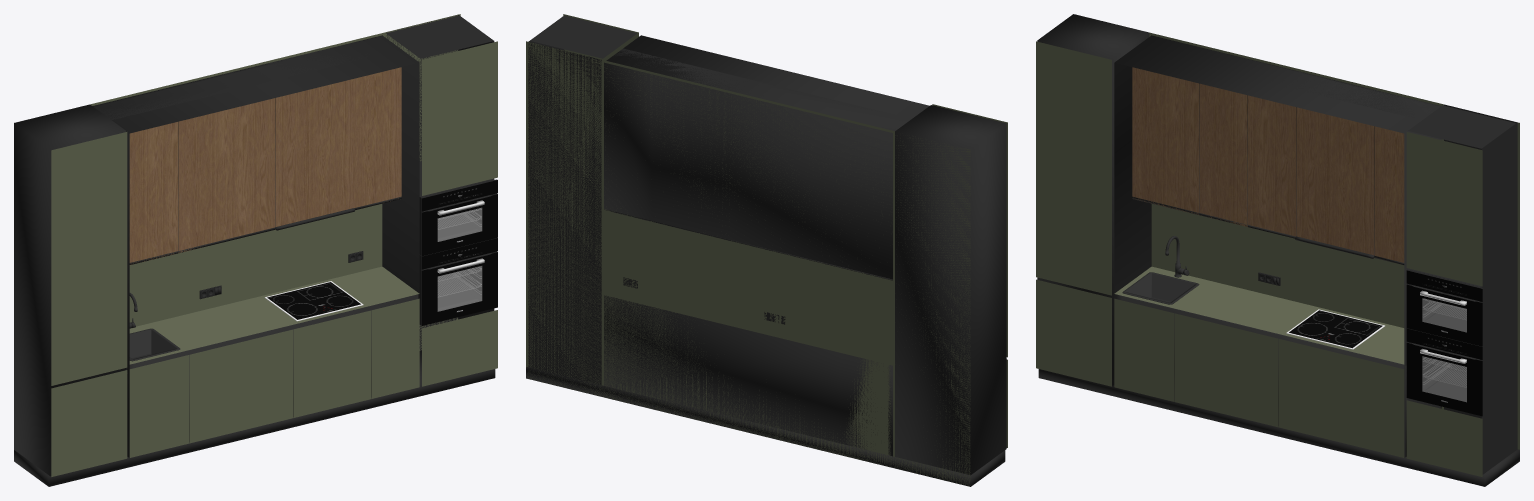
File: Kitchen.glb
3 renders of one model, left to right at view 1: azimuth 30°, elevation 25°; view 2: azimuth 150°, elevation 25°; view 3: azimuth 330°, elevation 25°, orthographic.
Visible parts, largest first — view 1: Plane.003, Plane.005, Plane.001, Plane.002, Plane.009, Plane.006, Plane.038, Plane.018, Plane.020, Plane.045, Plane, Plane.012 (+1 smaller); view 2: Plane.001, Plane.009, Plane.002, Plane.003; view 3: Plane.003, Plane.005, Plane.002, Plane.009, Plane.001, Plane.006, Plane.038, Plane.018, Plane.020, Plane, Plane.045, Plane.012 (+1 smaller).
Part boxes in pixels (x1,y1,x2,y2): Plane.003: [51, 41, 497, 476]; Plane.005: [129, 67, 401, 264]; Plane.001: [14, 35, 495, 486]; Plane.002: [93, 15, 494, 457]; Plane.009: [90, 14, 460, 350]; Plane.006: [129, 266, 419, 364]; Plane.038: [421, 238, 497, 325]; Plane.018: [421, 179, 497, 256]; Plane.020: [264, 281, 363, 321]; Plane.045: [437, 266, 481, 311]; Plane: [129, 328, 180, 361]; Plane.012: [437, 208, 481, 241]; Plane.001: [526, 48, 1006, 486]; Plane.009: [526, 41, 970, 486]; Plane.002: [528, 15, 929, 385]; Plane.003: [563, 14, 1007, 447]; Plane.003: [1036, 41, 1482, 476]; Plane.005: [1132, 67, 1404, 262]; Plane.002: [1114, 35, 1517, 474]; Plane.009: [1149, 32, 1519, 449]; Plane.001: [1037, 14, 1519, 486]; Plane.006: [1114, 266, 1404, 364]; Plane.038: [1406, 328, 1482, 416]; Plane.018: [1406, 270, 1482, 346]; Plane.020: [1286, 309, 1384, 349]; Plane: [1122, 272, 1199, 304]; Plane.045: [1422, 356, 1466, 401]; Plane.012: [1422, 298, 1466, 331].
Size of the model in its own units: 4 by 2.9 by 0.6143.
Materials: 14 (4 with a texture image).
